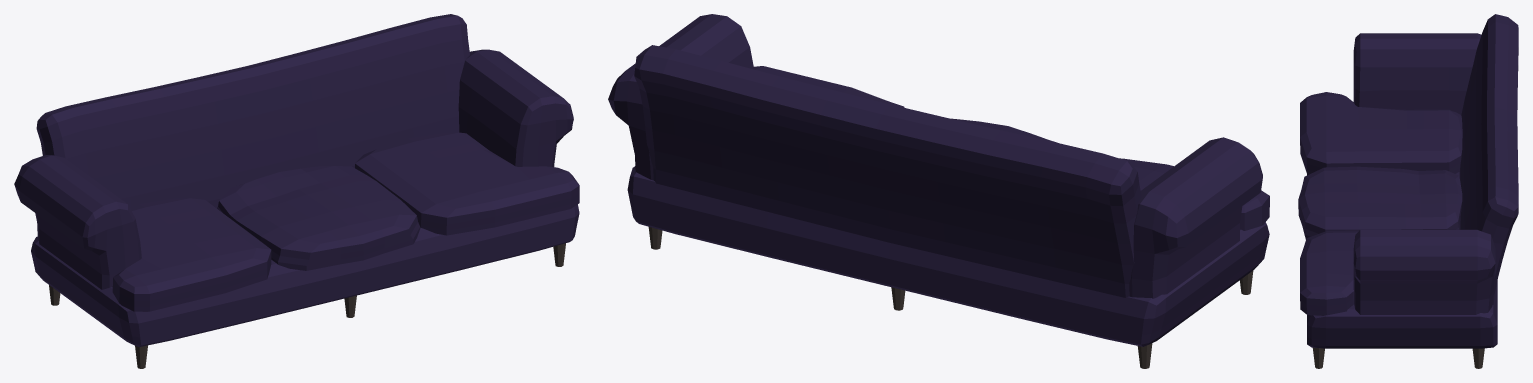
Rendered from Sofa.glb.
3 views of the same model, side by side, from view 1: azimuth 30°, elevation 25°; view 2: azimuth 150°, elevation 25°; view 3: azimuth 270°, elevation 25° (orthographic). The views are drawn at different scales.
Visible parts, largest first — view 1: Sofa; view 2: Sofa; view 3: Sofa.
Boxes of the visible parts, left/top/right/bottom form: Sofa: left=14, top=14, right=579, bottom=368; Sofa: left=608, top=14, right=1269, bottom=368; Sofa: left=1298, top=14, right=1518, bottom=368.
Bounding box in the file's own units: 2.82 × 1 × 1.19.
2 materials, 2 textured.
